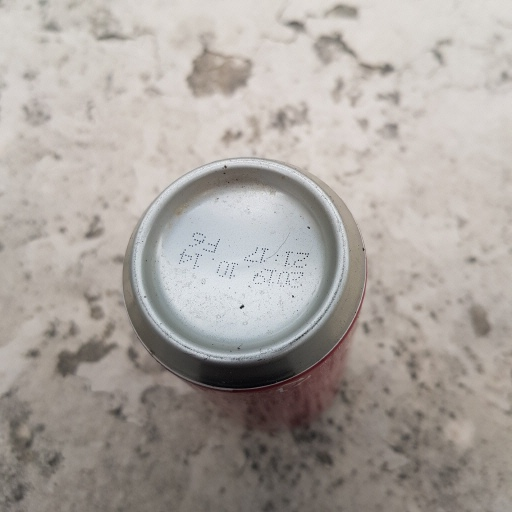Metal_0: (125, 160, 368, 432)
